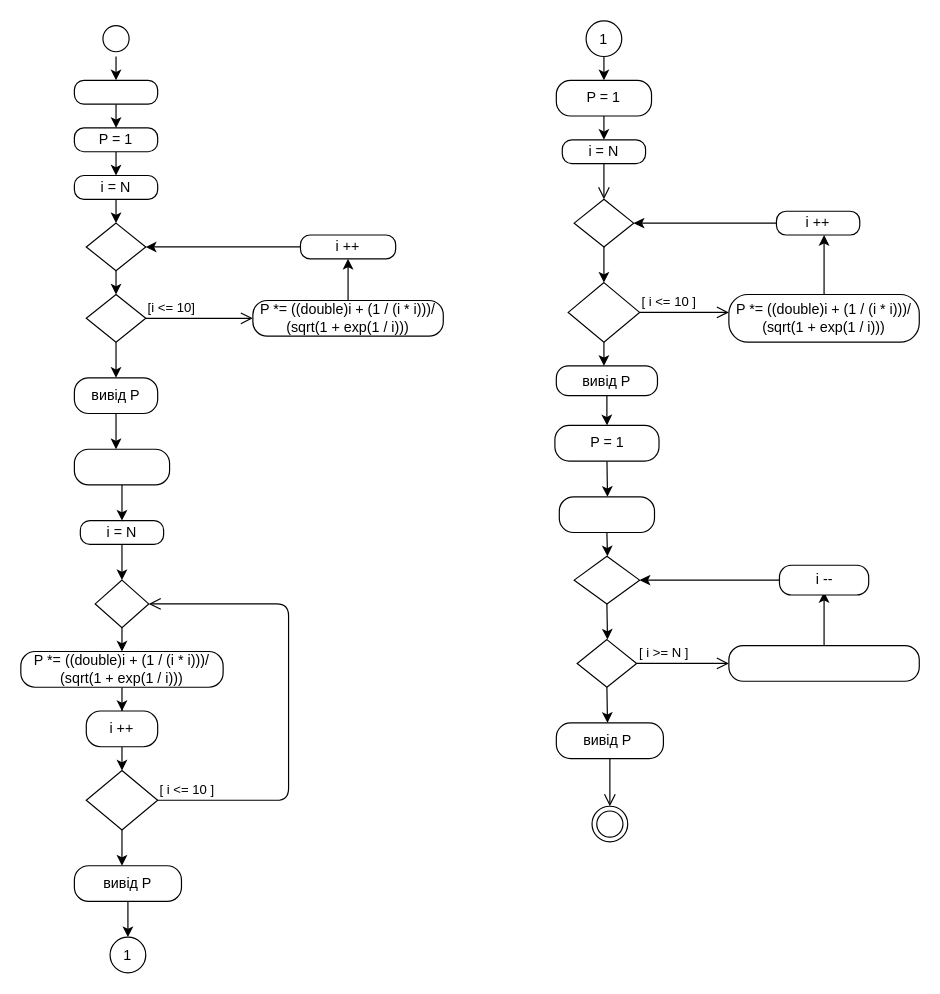
The diagram is 940 pixels wide and 994 high, and some of its shapes have lost their labels. Each missing label, with the centre of its shape:
i = 10: the point at 606,514
P *= ((double)i + (1 / (i * i))) / (sqrt(1 + exp(1 / i))): the point at 823,662
P =1: the point at 121,466
ввід N: the point at 115,91
